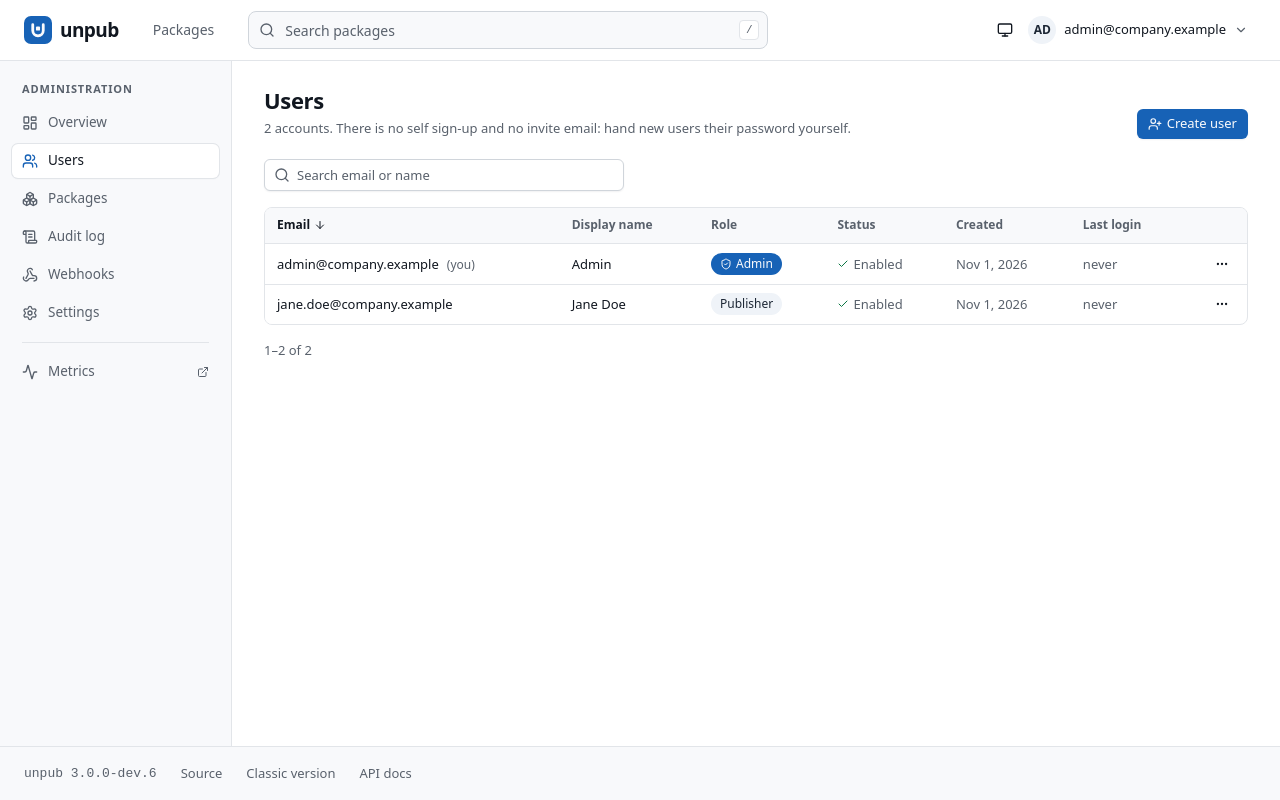
admin users › disables a user after confirming
Click the button named "Actions for jane.doe@company.example". click: (1222, 304)
box: 1209,291 -> 1235,317
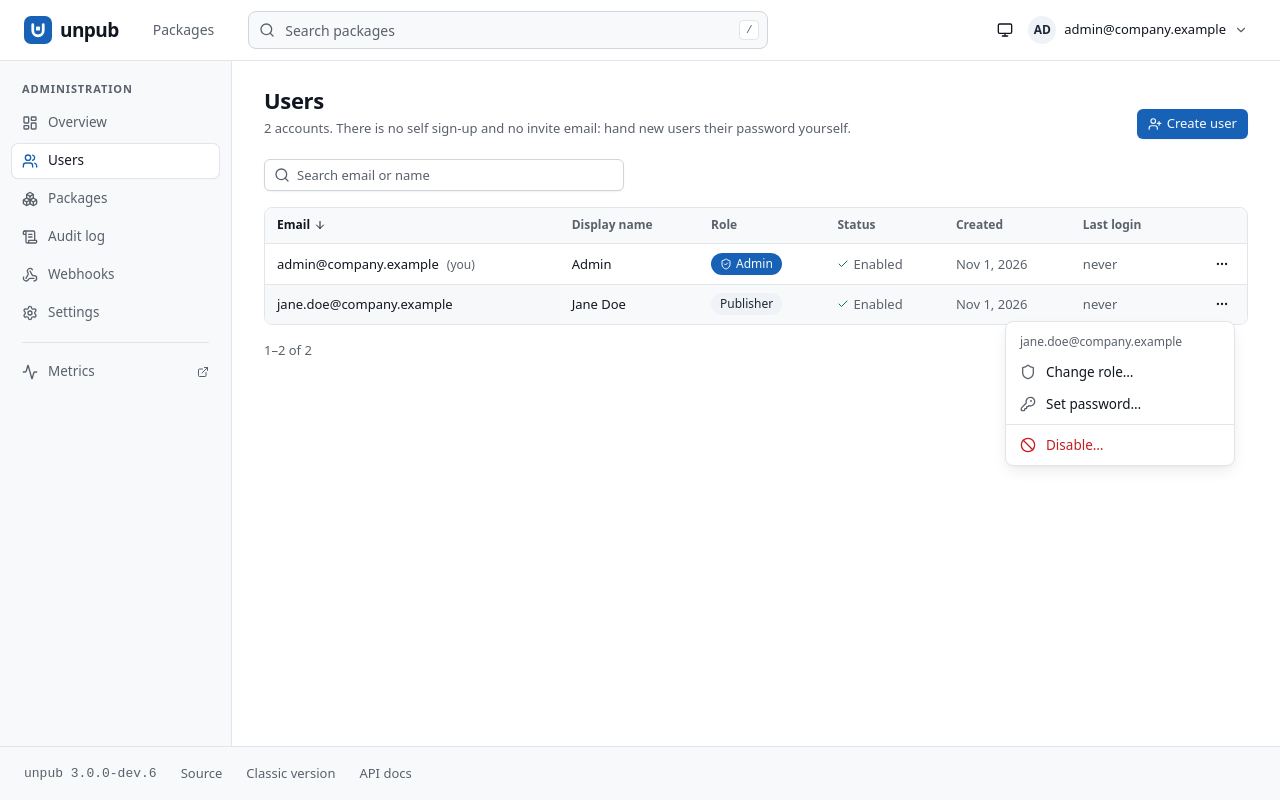
Click the menu item "Disable…". click: (1062, 445)
box: 1020,436 -> 1104,454
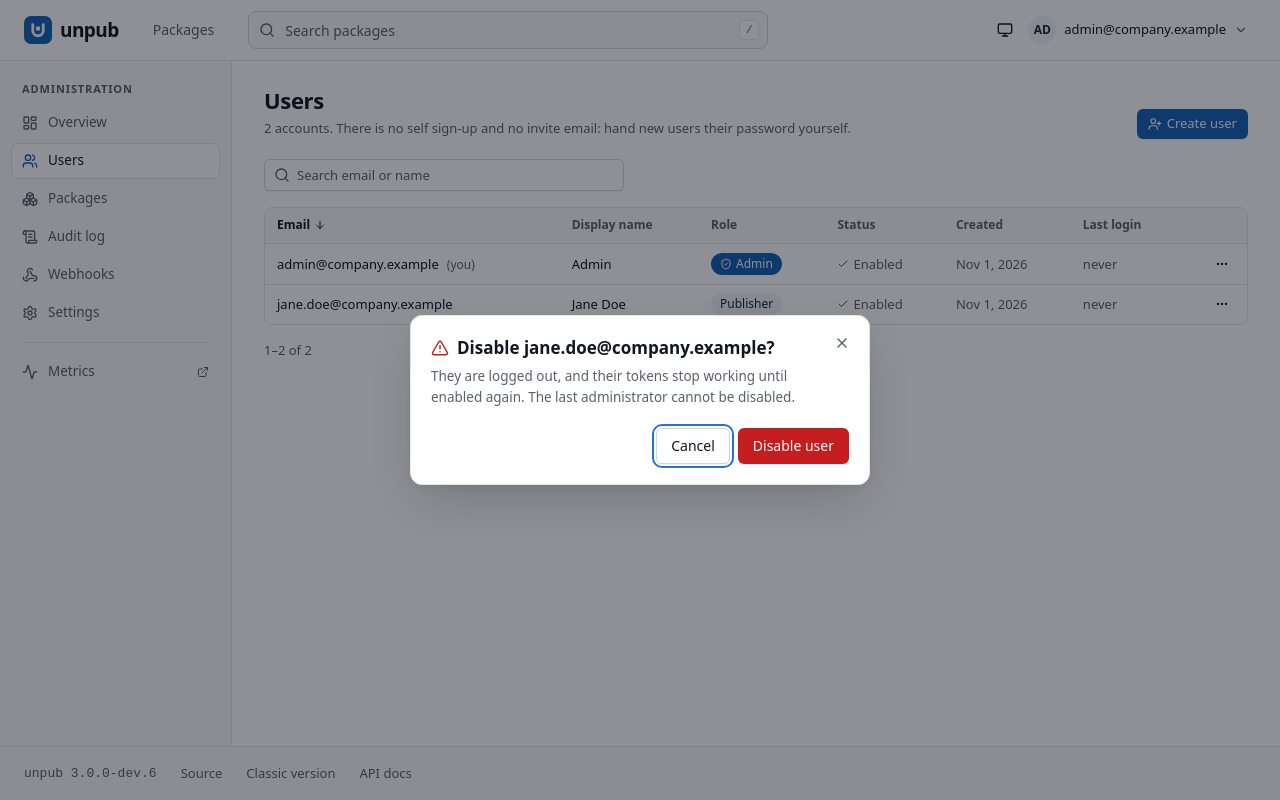
Click the button "Disable user". click: (793, 446)
box: 738,428 -> 849,464
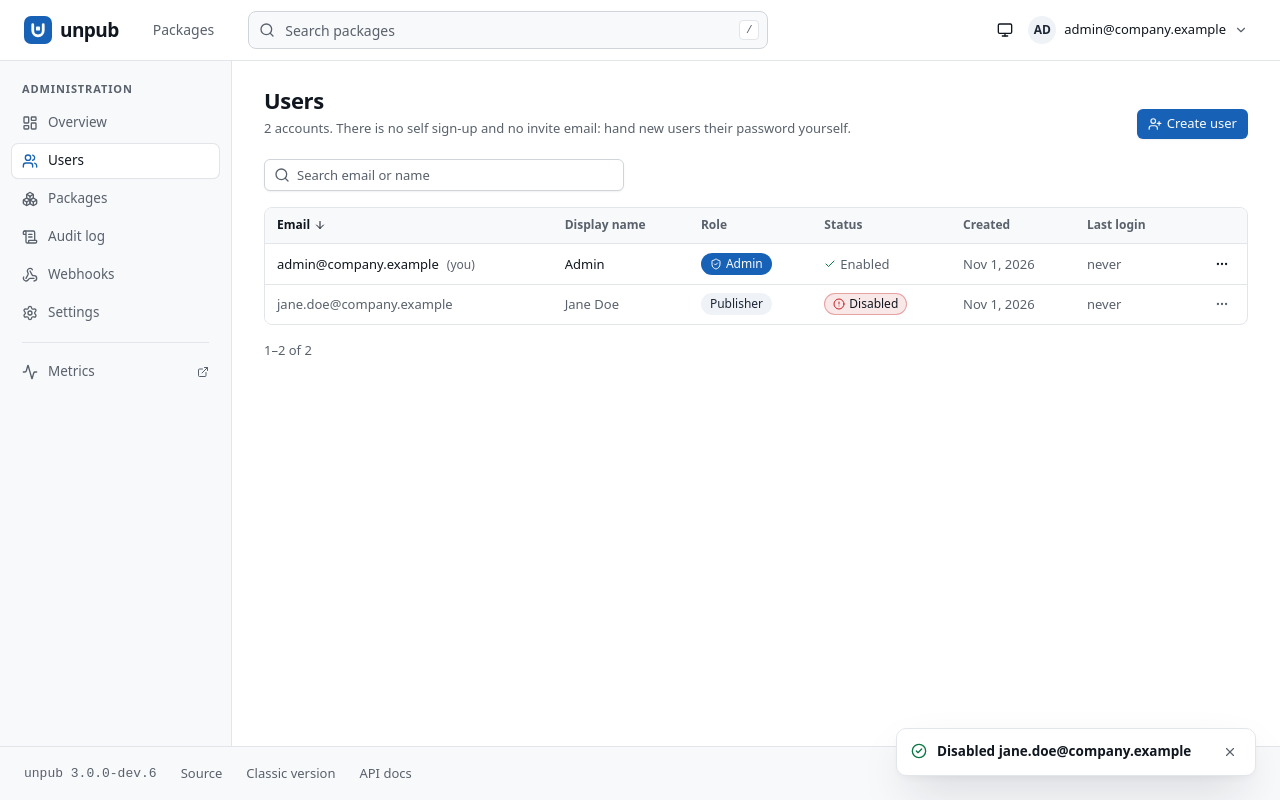
Now the text "Disabled" is shown, box 824,293 -> 907,315
